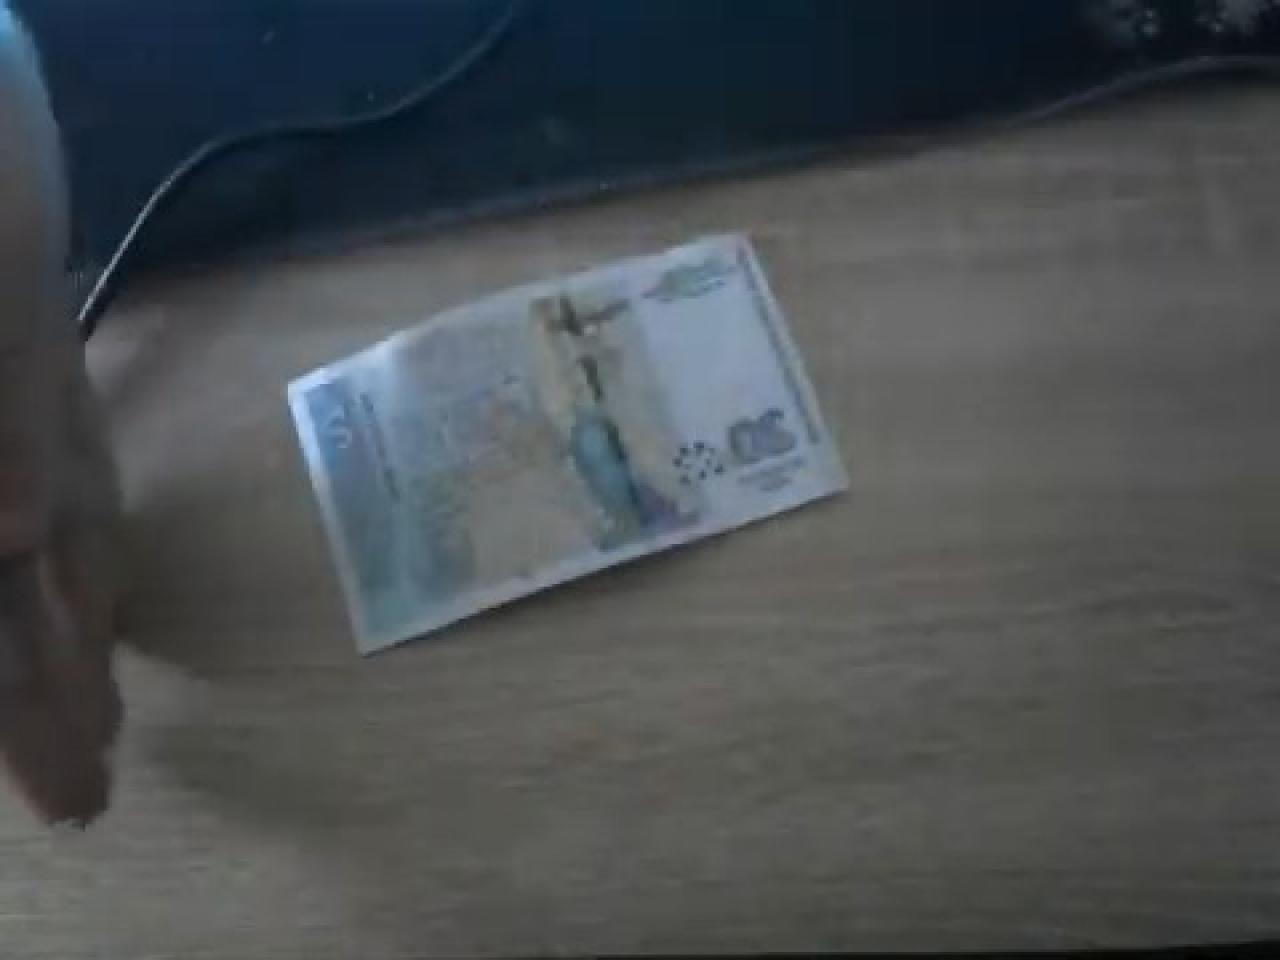20leva: (285, 227, 854, 658)
